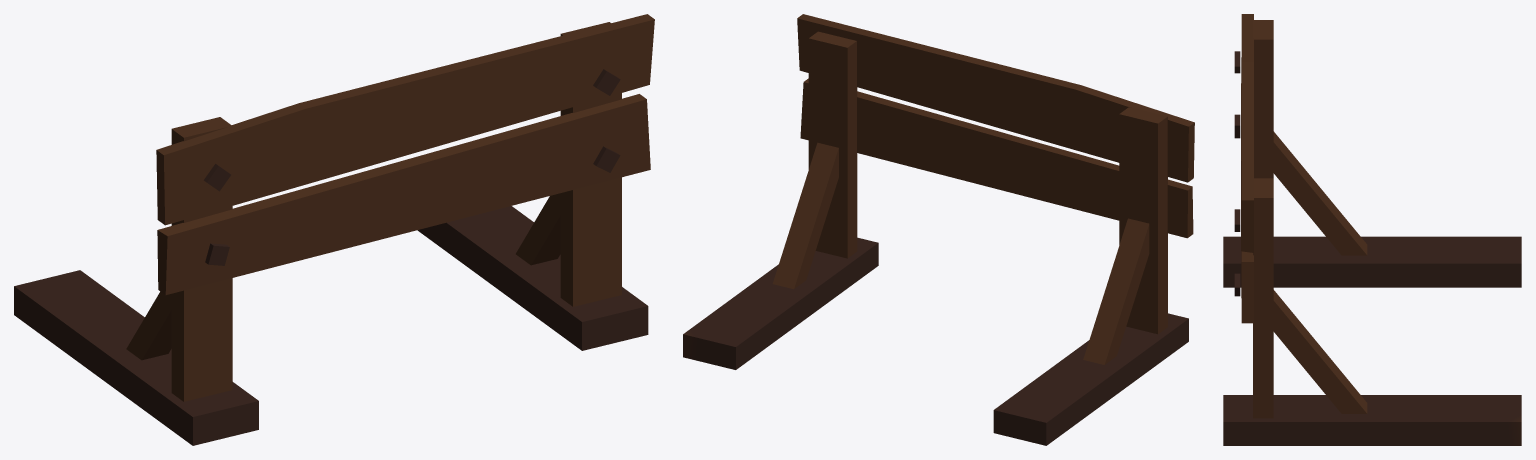
Rendered from Train Wood Stopper.glb.
The picture shows the model from 3 angles, left to right: view 1: azimuth 30°, elevation 25°; view 2: azimuth 150°, elevation 25°; view 3: azimuth 270°, elevation 25°; orthographic projection. The views are drawn at different scales.
Visible parts, largest first — view 1: Train Wood Stopper; view 2: Train Wood Stopper; view 3: Train Wood Stopper.
Boxes of the visible parts, <box> form: Train Wood Stopper: <box>14,14,654,445</box>; Train Wood Stopper: <box>683,14,1194,445</box>; Train Wood Stopper: <box>1223,14,1521,445</box>.
Size of what is drawn, in the model's own units: 3.07 by 1.81 by 1.93.
1 material, 1 textured.
